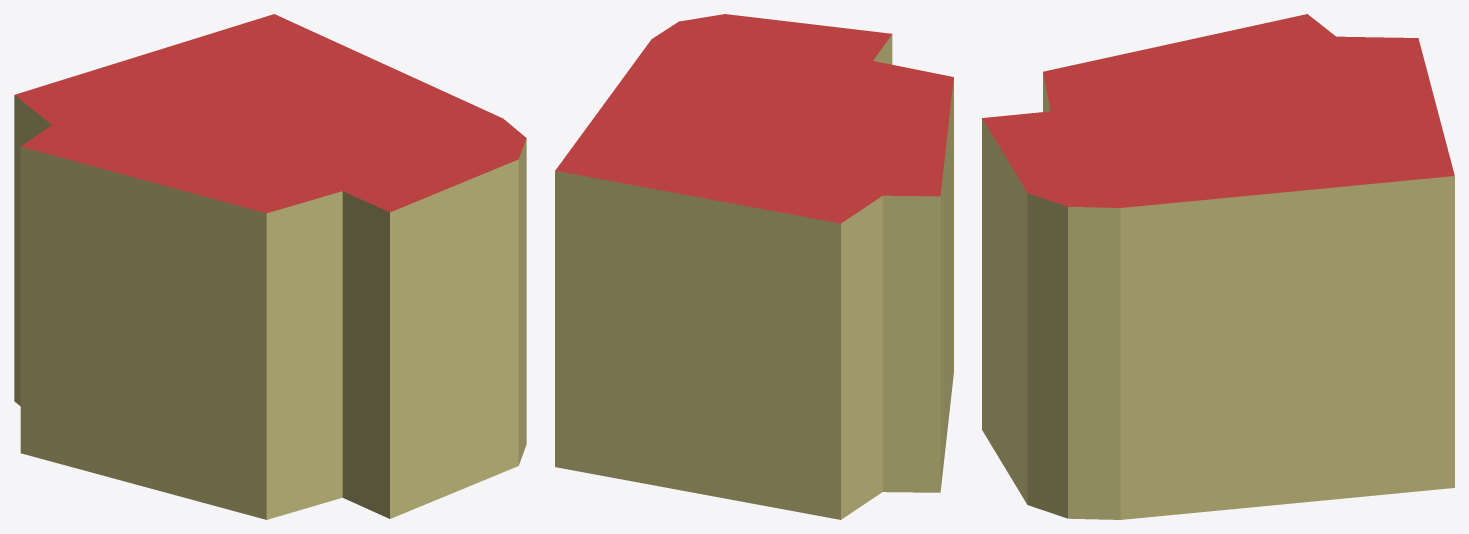
3 renders of one model, left to right at view 1: azimuth 30°, elevation 25°; view 2: azimuth 150°, elevation 25°; view 3: azimuth 270°, elevation 25°, orthographic. The views are drawn at different scales.
Size of the model in its own units: 9.51 by 9.79 by 7.13.
